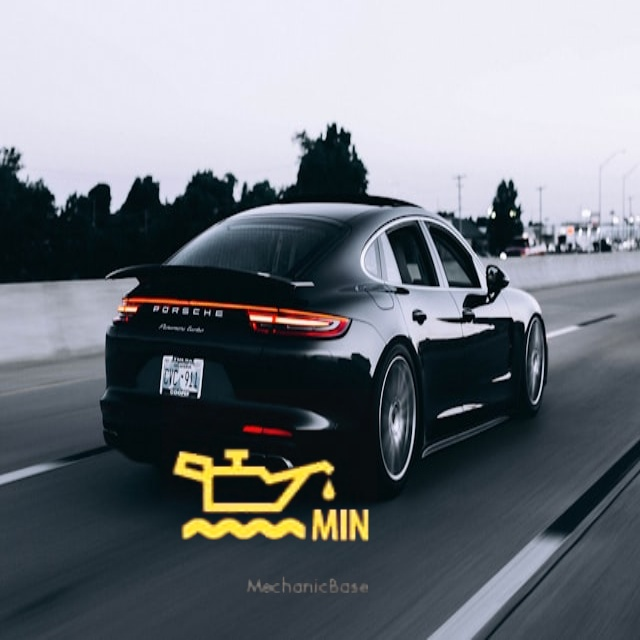symbol: (162, 389, 377, 604)
